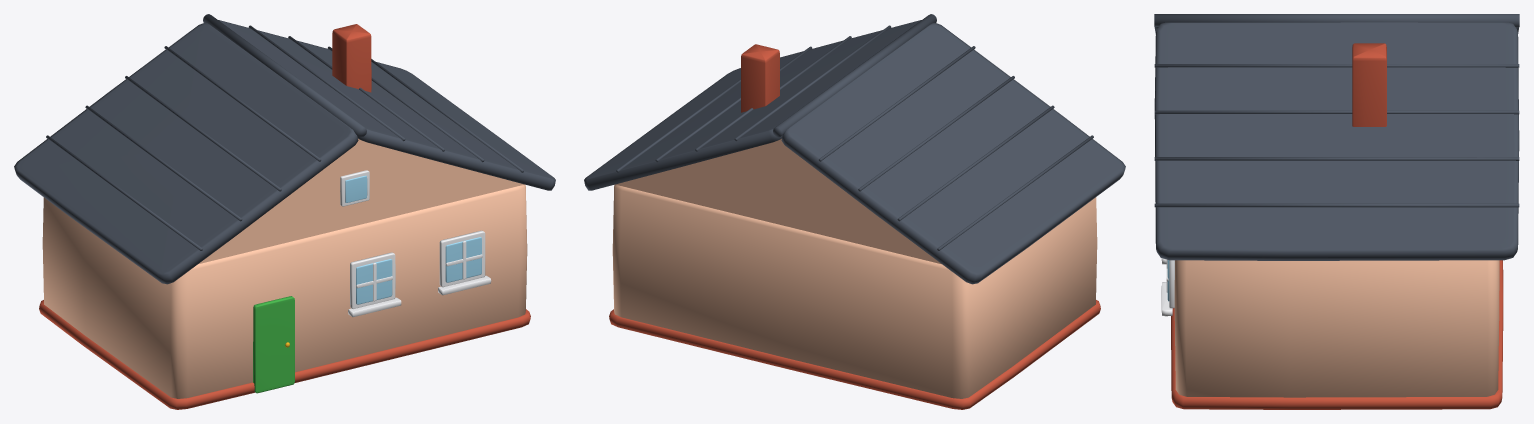
File: house_d.glb
3 renders of one model, left to right at view 1: azimuth 30°, elevation 25°; view 2: azimuth 150°, elevation 25°; view 3: azimuth 270°, elevation 25°, orthographic. The views are drawn at different scales.
Visible parts, largest first — view 1: Body; view 2: Body; view 3: Body.
Boxes of the visible parts, x1,y1,x2,y2 form: Body: (14,14,555,409); Body: (584,14,1125,409); Body: (1154,14,1519,409).
Bounding box in the file's own units: 9.98 × 6.14 × 6.72.
